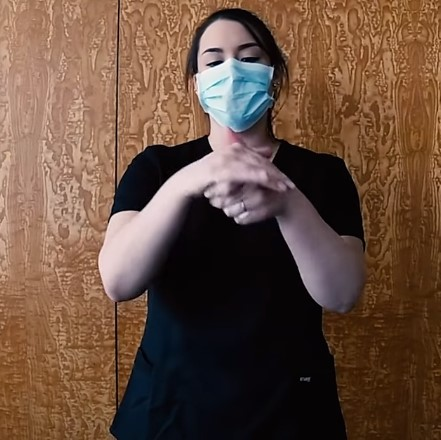face_with_mask: (185, 10, 288, 135)
